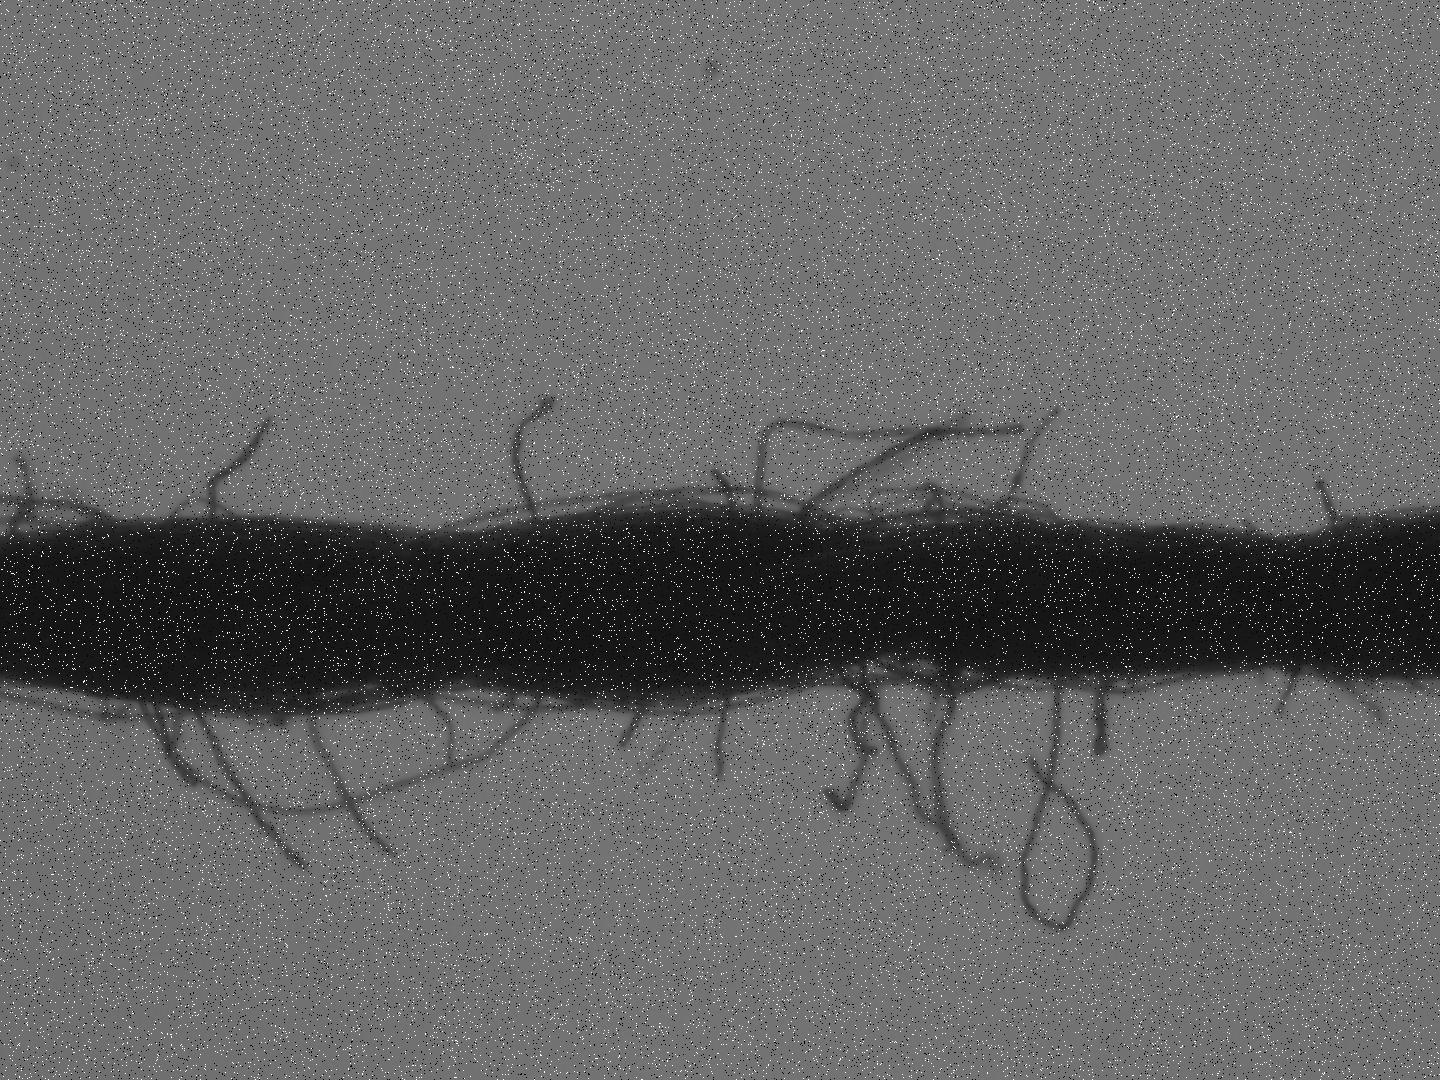loop_fiber: (136, 682, 545, 820), (423, 486, 854, 543), (864, 478, 1000, 534), (439, 683, 584, 716), (881, 660, 1010, 697), (1060, 673, 1230, 700), (971, 495, 1074, 530), (160, 493, 256, 530), (801, 661, 903, 692), (984, 668, 1110, 691)
protruding_fiber: (190, 704, 311, 874), (311, 702, 398, 862), (1000, 398, 1068, 521), (204, 417, 273, 524), (509, 394, 557, 529), (711, 689, 735, 783), (618, 694, 652, 752), (1274, 669, 1307, 717), (1316, 479, 1344, 534), (712, 462, 736, 514)
